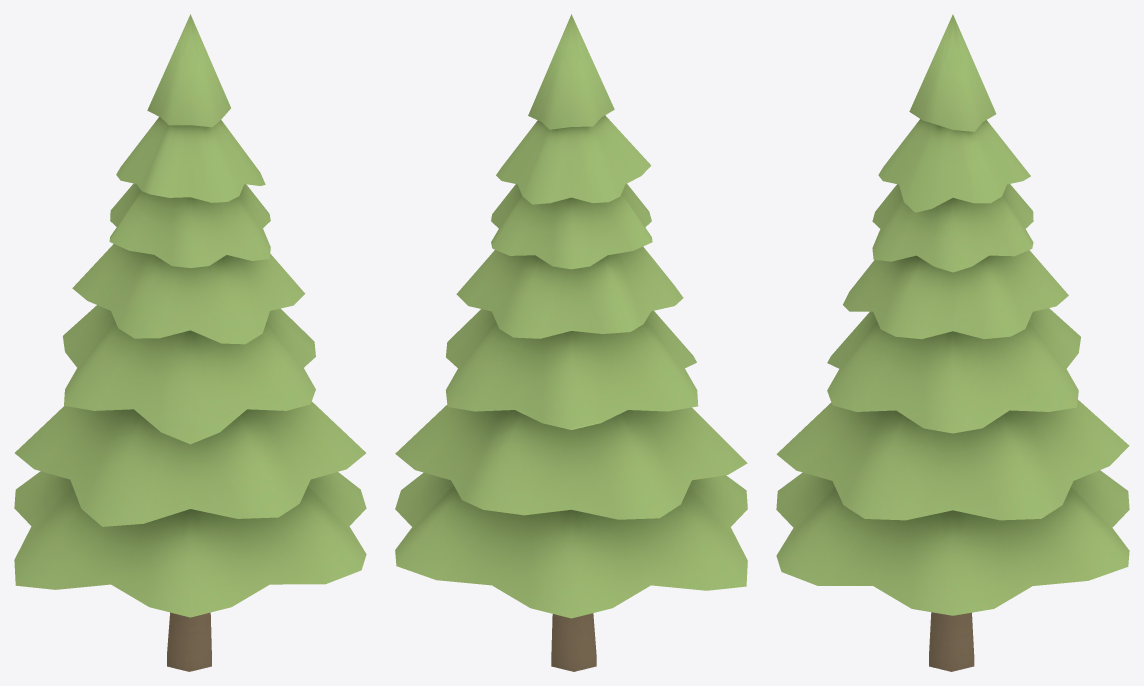
Rendered from pine_d.glb.
The picture shows the model from 3 angles, left to right: view 1: azimuth 30°, elevation 25°; view 2: azimuth 150°, elevation 25°; view 3: azimuth 270°, elevation 25°; orthographic projection.
Parts seen in each view (by area): view 1: Pine.001; view 2: Pine.001; view 3: Pine.001.
Boxes of the visible parts, x1,y1,x2,y2 form: Pine.001: [14, 14, 366, 671]; Pine.001: [395, 14, 747, 671]; Pine.001: [776, 14, 1129, 671].
Bounding box in the file's own units: 11.17 × 19.99 × 9.88.
1 material, 1 textured.
